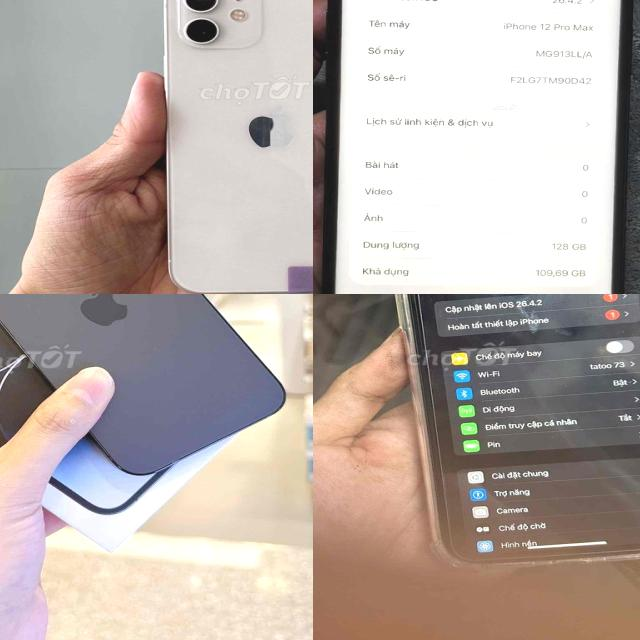gen_11: (373, 294, 640, 575)
gen_12_13: (318, 0, 640, 294), (156, 0, 313, 294)
gen_14: (0, 294, 294, 473)
